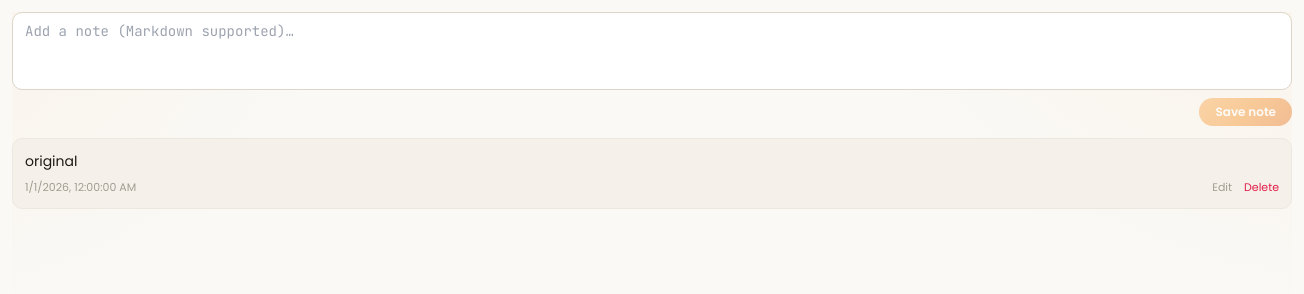
it: NotesThread — editing › discards the edit on Cancel
Expected: the text "original" is shown, [25,151,77,171]
Click the button "Edit": x=1222, y=187 [1212,179,1232,196]
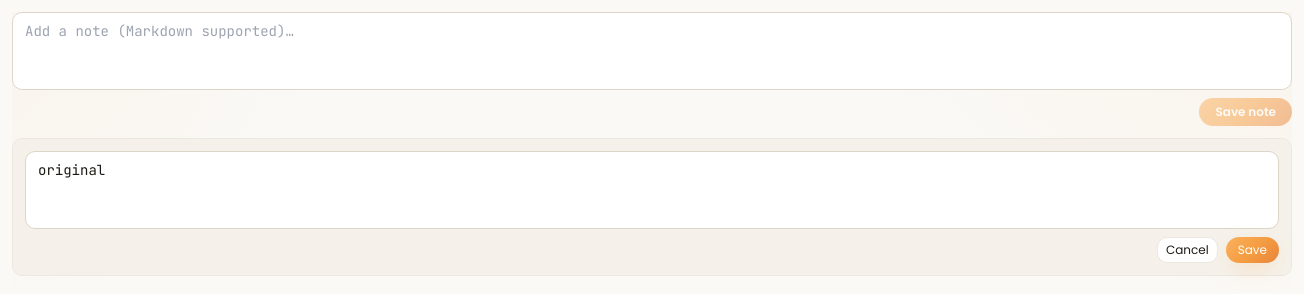
Click the button "Cancel": x=1187, y=250 [1157,237,1218,263]
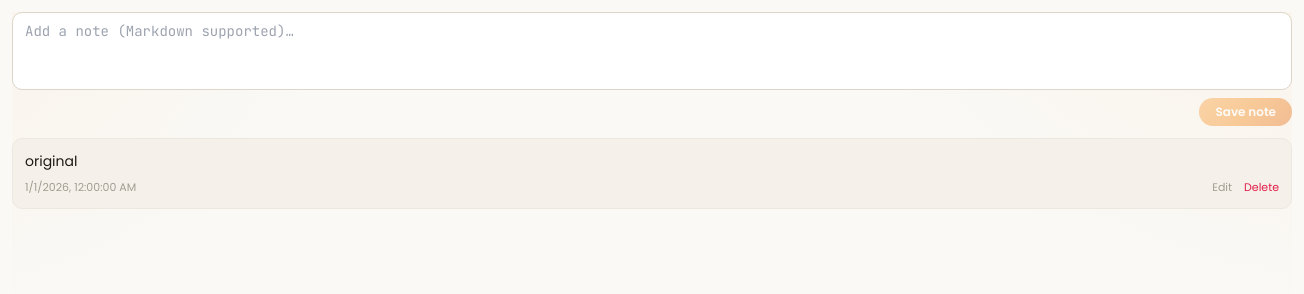
Now the text "original" is shown, box [25,151,77,171]
